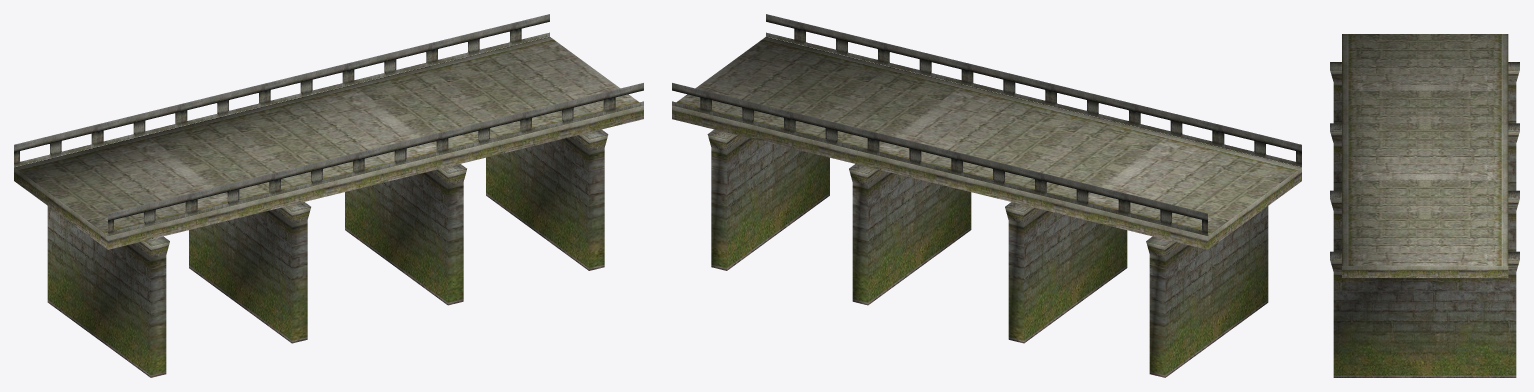
Rendered from cj_rich_bridge.glb.
3 renders of one model, left to right at view 1: azimuth 30°, elevation 25°; view 2: azimuth 150°, elevation 25°; view 3: azimuth 270°, elevation 25°, orthographic. The views are drawn at different scales.
Parts seen in each view (by area): view 1: CJ_rich_bridge_wall, CJ_rich_bridge_fence_al; view 2: CJ_rich_bridge_wall, CJ_rich_bridge_fence_al; view 3: CJ_rich_bridge_wall.
Boxes of the visible parts, <box> form: CJ_rich_bridge_wall: <box>14,36,643,377</box>; CJ_rich_bridge_fence_al: <box>14,14,643,235</box>; CJ_rich_bridge_wall: <box>672,36,1301,377</box>; CJ_rich_bridge_fence_al: <box>672,14,1301,235</box>; CJ_rich_bridge_wall: <box>1330,34,1519,377</box>.
Bounding box in the file's own units: 12.94 × 3.93 × 4.48.
2 materials, 2 textured.
